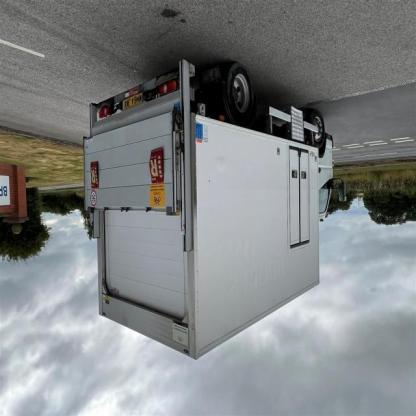truck: (85, 59, 349, 362)
